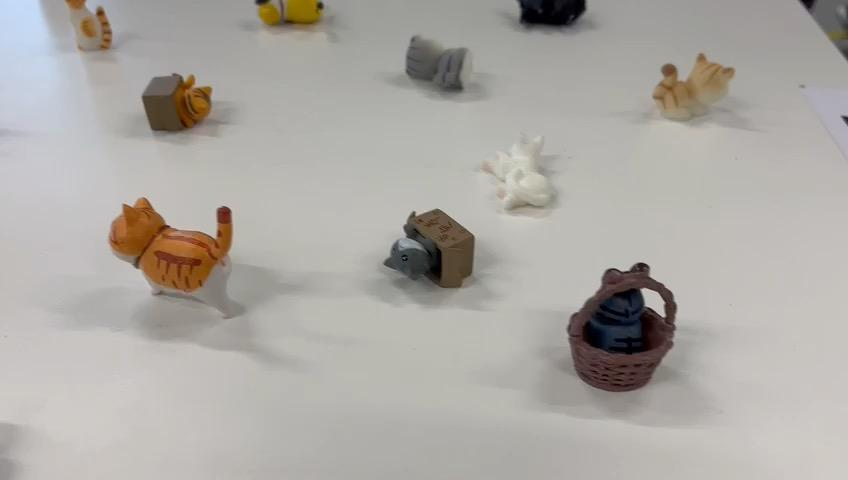pet: (105, 190, 247, 323), (562, 257, 686, 395), (383, 205, 478, 292), (647, 45, 741, 126), (476, 128, 556, 215), (137, 69, 217, 136), (403, 29, 474, 98), (63, 0, 112, 57)
